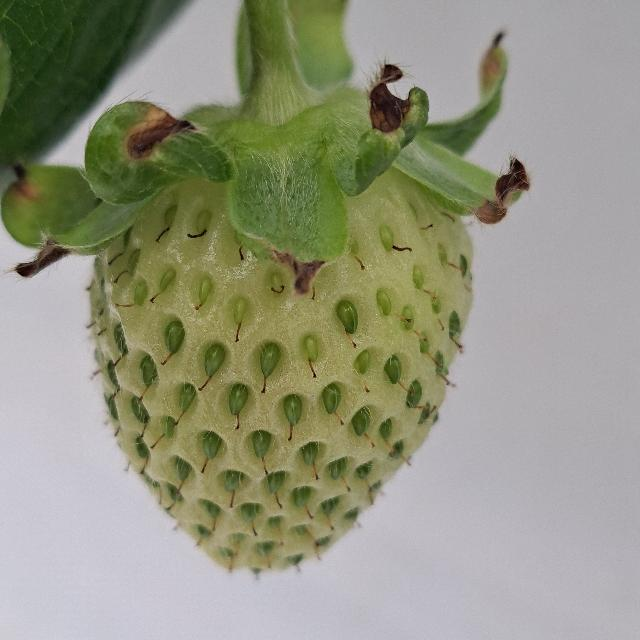Health_25: (89, 166, 473, 574)
